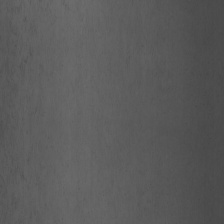silk_spot: (0, 15, 45, 184)
